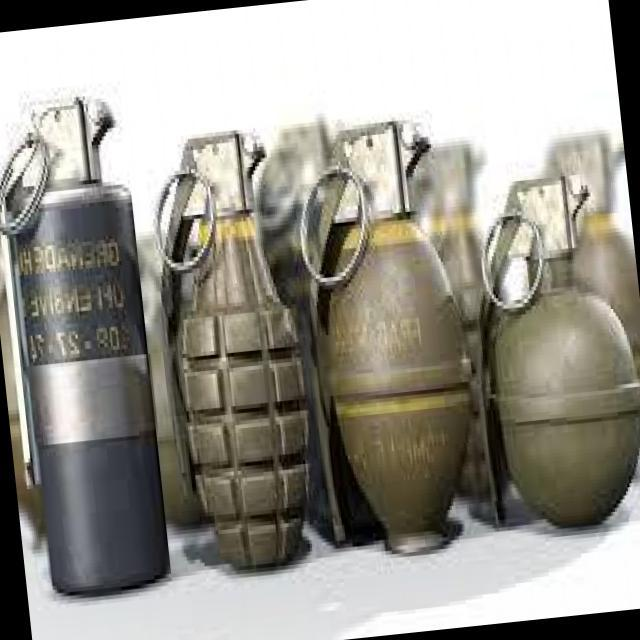grenade: (0, 95, 178, 599), (288, 116, 482, 564), (142, 114, 326, 572), (470, 161, 640, 526)
